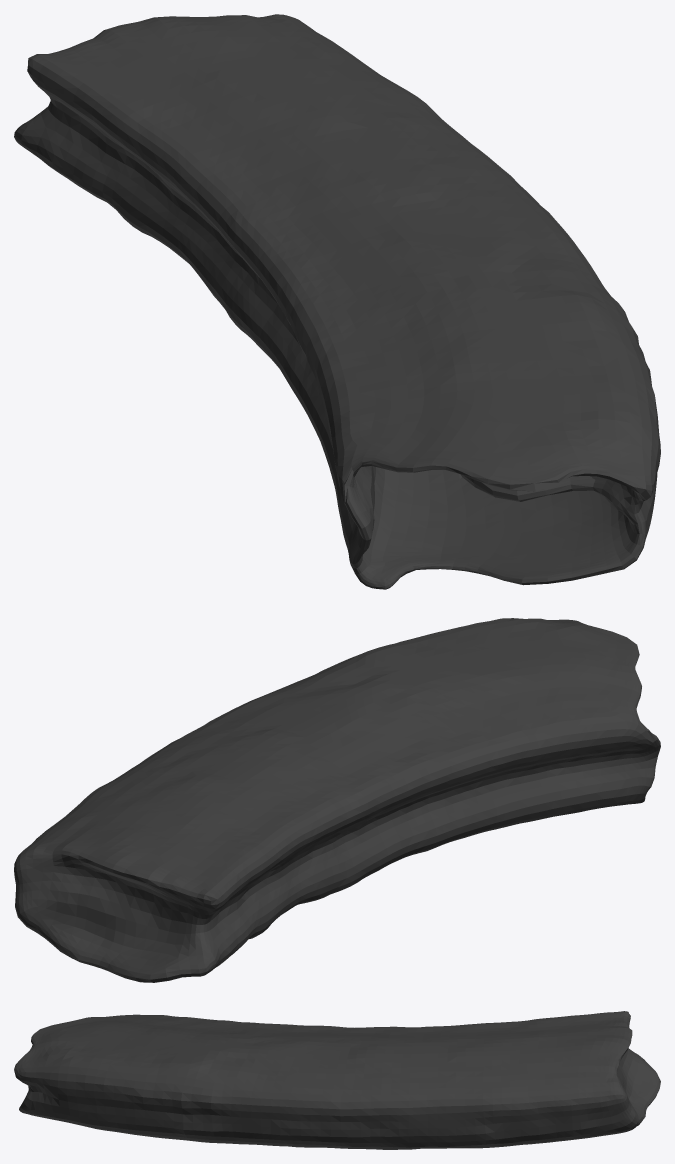
File: tooth_rabbit_108_low.glb
The picture shows the model from 3 angles, top to bottom: view 1: azimuth 30°, elevation 25°; view 2: azimuth 150°, elevation 25°; view 3: azimuth 270°, elevation 25°; orthographic projection. The views are drawn at different scales.
Parts seen in each view (by area): view 1: tooth_rabbit_108_low; view 2: tooth_rabbit_108_low; view 3: tooth_rabbit_108_low.
Boxes of the visible parts, bbox=[...] form: tooth_rabbit_108_low: bbox=[14, 14, 660, 589]; tooth_rabbit_108_low: bbox=[14, 618, 660, 982]; tooth_rabbit_108_low: bbox=[14, 1011, 660, 1149].
Bounding box in the file's own units: 0.6312 × 0.2883 × 1.52.
1 material, 1 textured.
